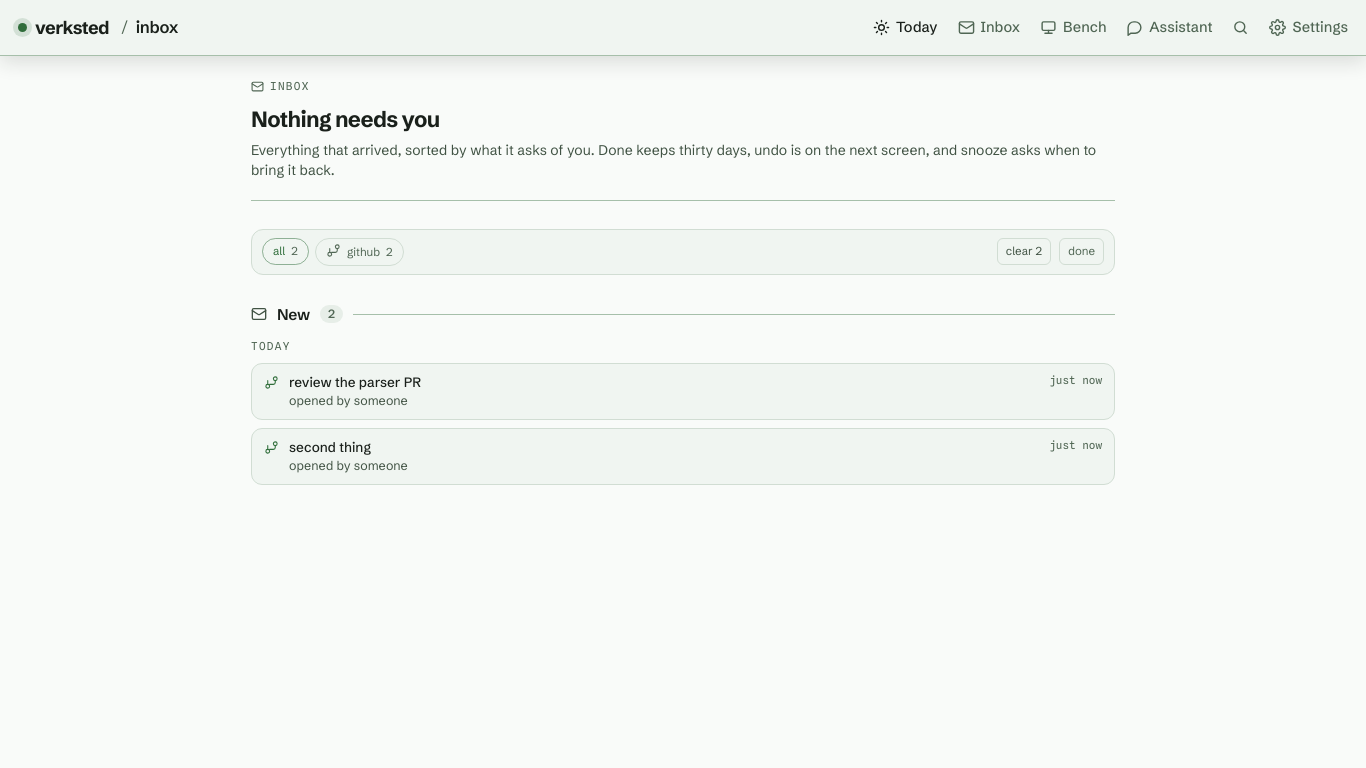
Test: a tap on the list › clears a whole list in one request
Click the button "clear 2" at point(1024, 252), box [997,238,1051,265]
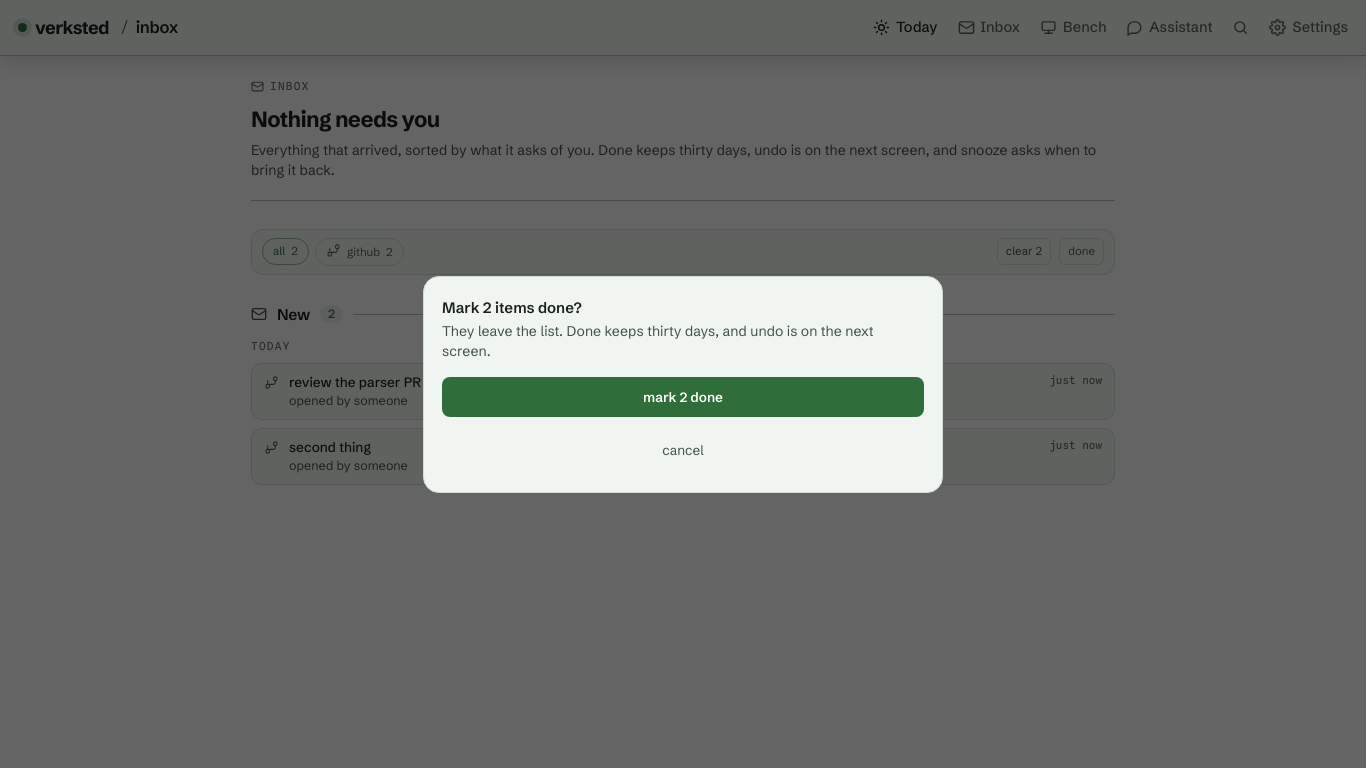
Click the button "mark 2 done" at point(683, 397), box [442,377,924,417]
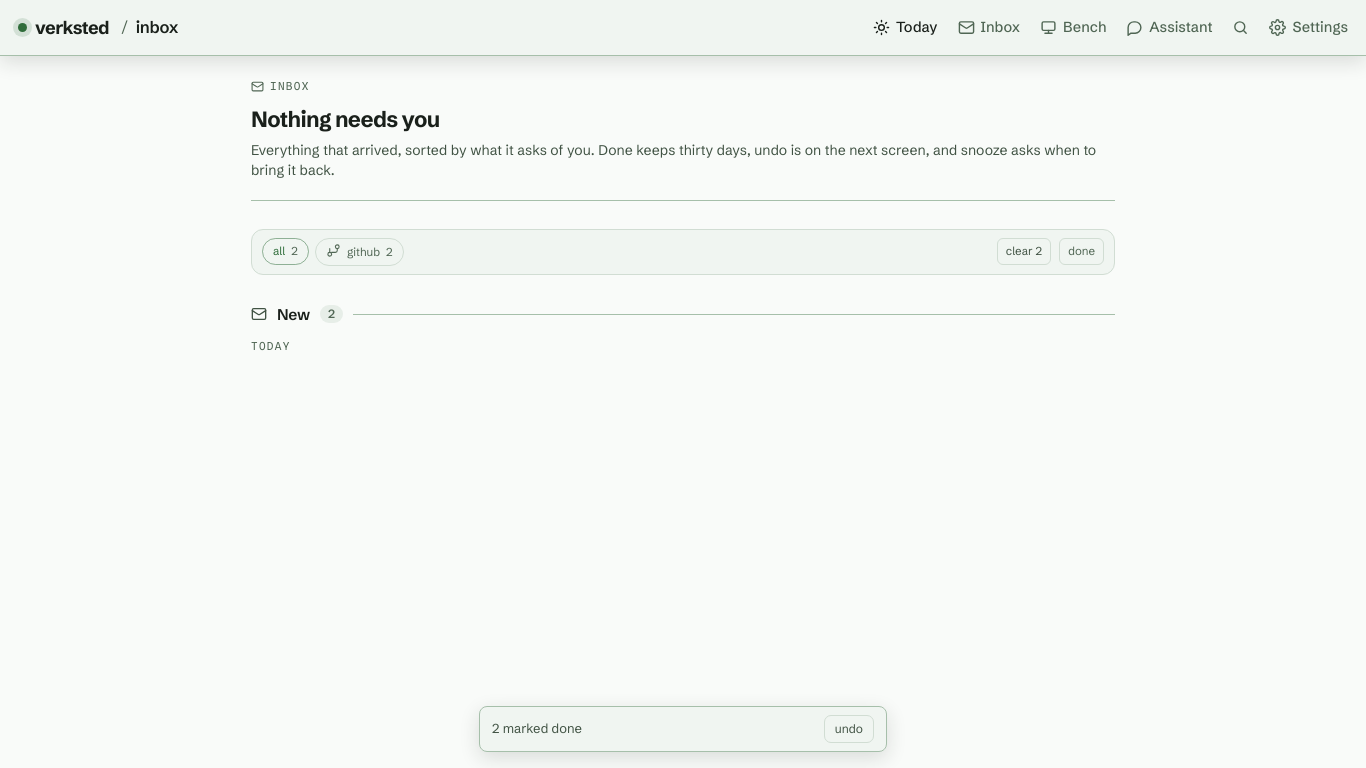
expect the text "2 marked done" is shown: met, box [492,720,582,736]
